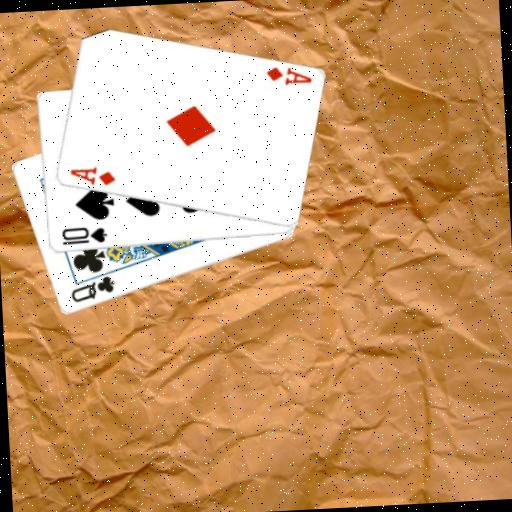10S: (58, 223, 109, 247)
AD: (66, 163, 117, 189), (262, 62, 313, 88)
QC: (67, 272, 118, 305)
